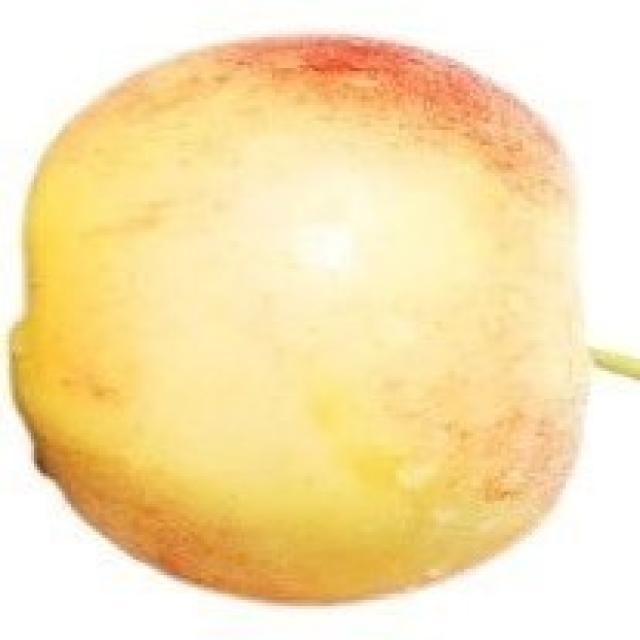75-_ripeness: (18, 34, 589, 601)
